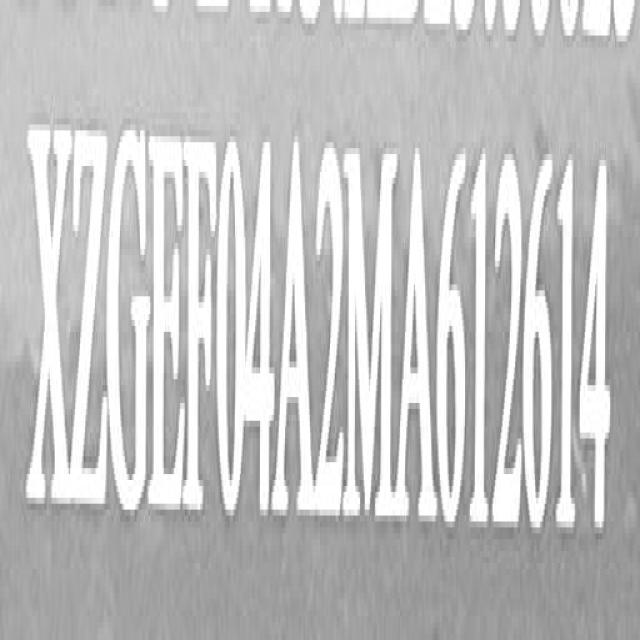0: (216, 138, 246, 522)
1: (468, 153, 488, 537), (555, 158, 575, 538)
2: (314, 139, 347, 531), (495, 154, 524, 539)
4: (581, 149, 616, 542), (244, 138, 277, 527)
6: (524, 157, 555, 543), (436, 150, 466, 535)
A: (277, 134, 314, 527), (398, 145, 434, 532)
E: (149, 122, 185, 525)
F: (187, 127, 220, 530)
G: (108, 124, 150, 526)
M: (344, 136, 398, 532)
X: (30, 118, 73, 517)
Z: (68, 120, 108, 517)
